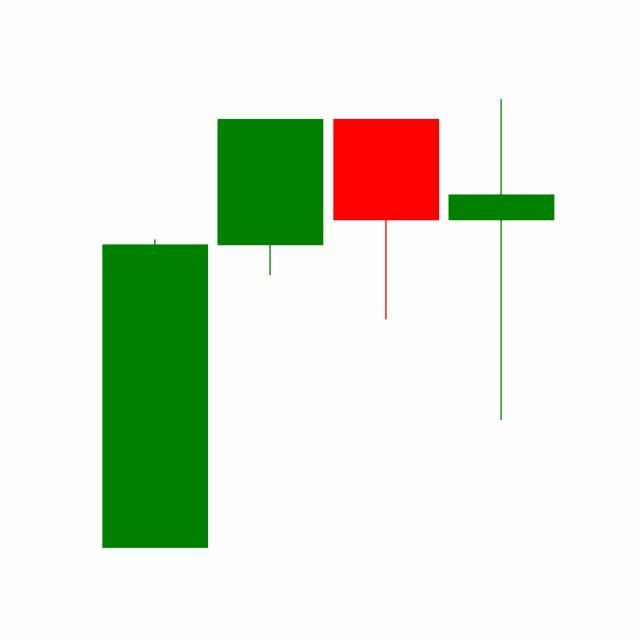Hammer: (329, 118, 445, 324)
